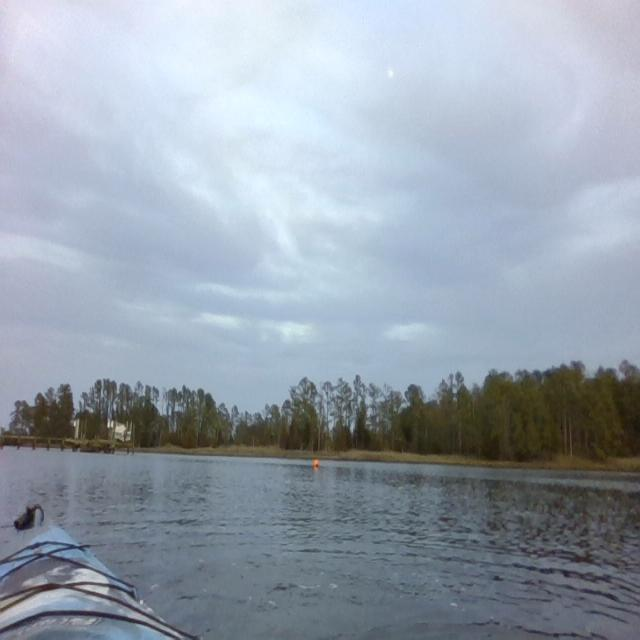Buoy: (312, 457, 321, 469)
